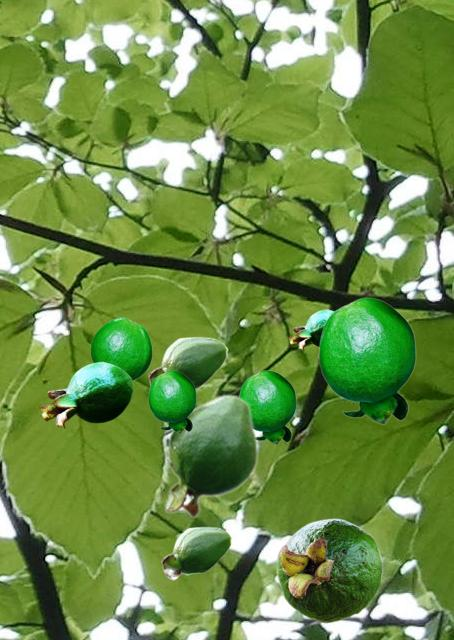guava: (318, 297, 415, 423), (164, 393, 257, 518), (276, 518, 382, 622), (39, 361, 132, 427), (148, 336, 227, 391), (239, 370, 295, 443), (90, 317, 151, 380), (161, 526, 231, 579), (148, 370, 195, 432), (288, 309, 333, 349)
